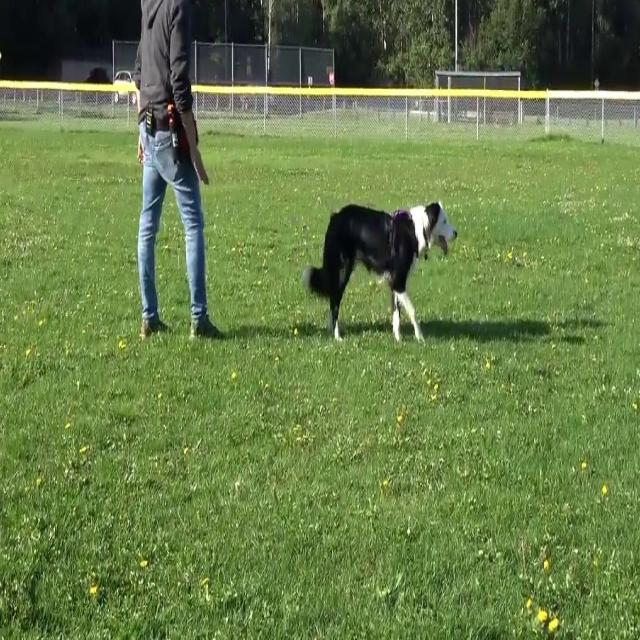Unleashed_Dog: (163, 113, 459, 344)
